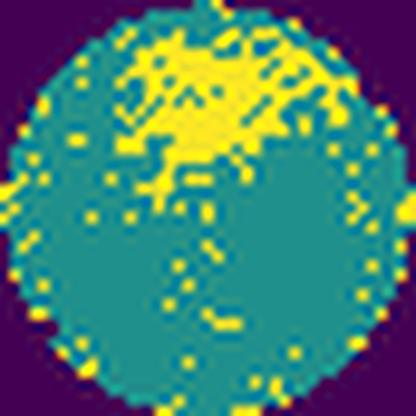Loc: (115, 26, 360, 208)
